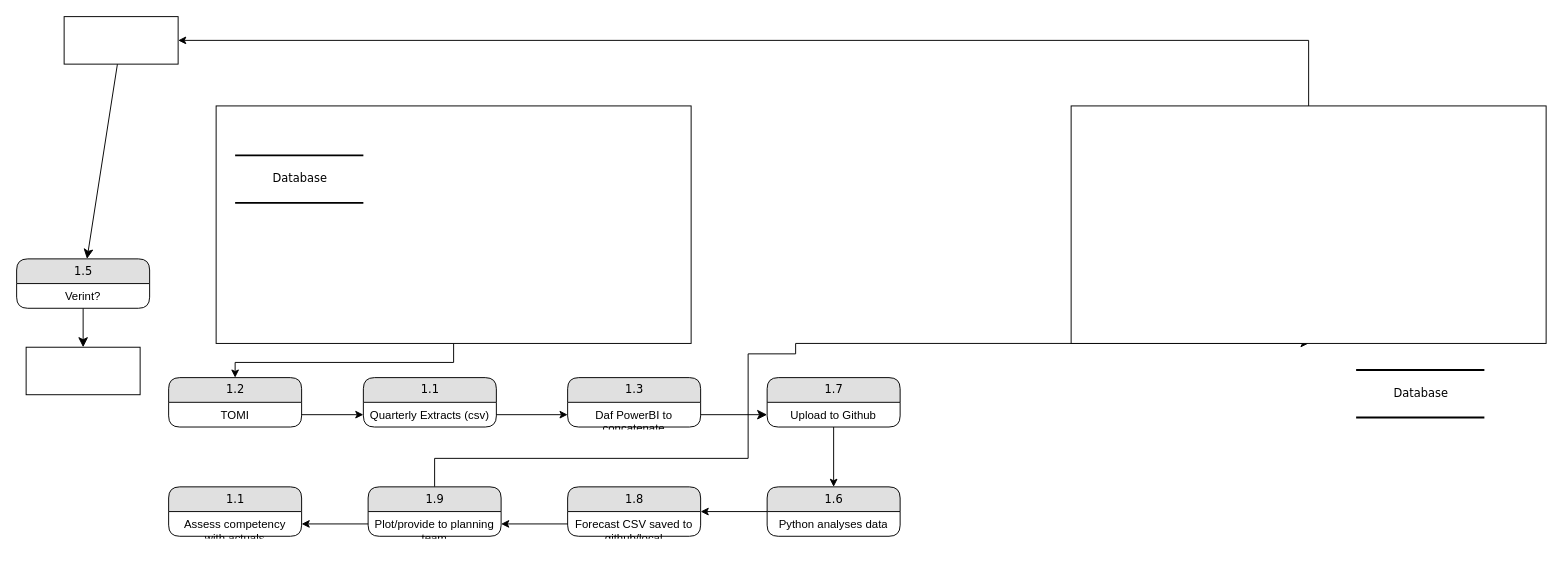
Some shapes in this 1563 by 561 pixel diagram are drawn without their labels. The box of each missing label's shape, as (x1, y1, x2, y2) in pixels:
Customer Calls: (63, 16, 178, 64)
Output: (25, 346, 140, 395)
Planning team schedule resource: (1070, 105, 1546, 343)
